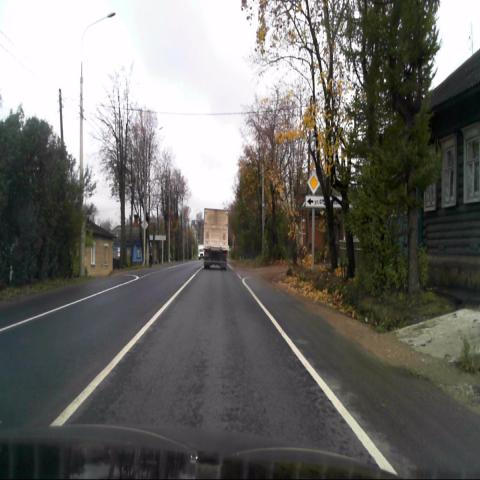2_1: (308, 173, 319, 194)
